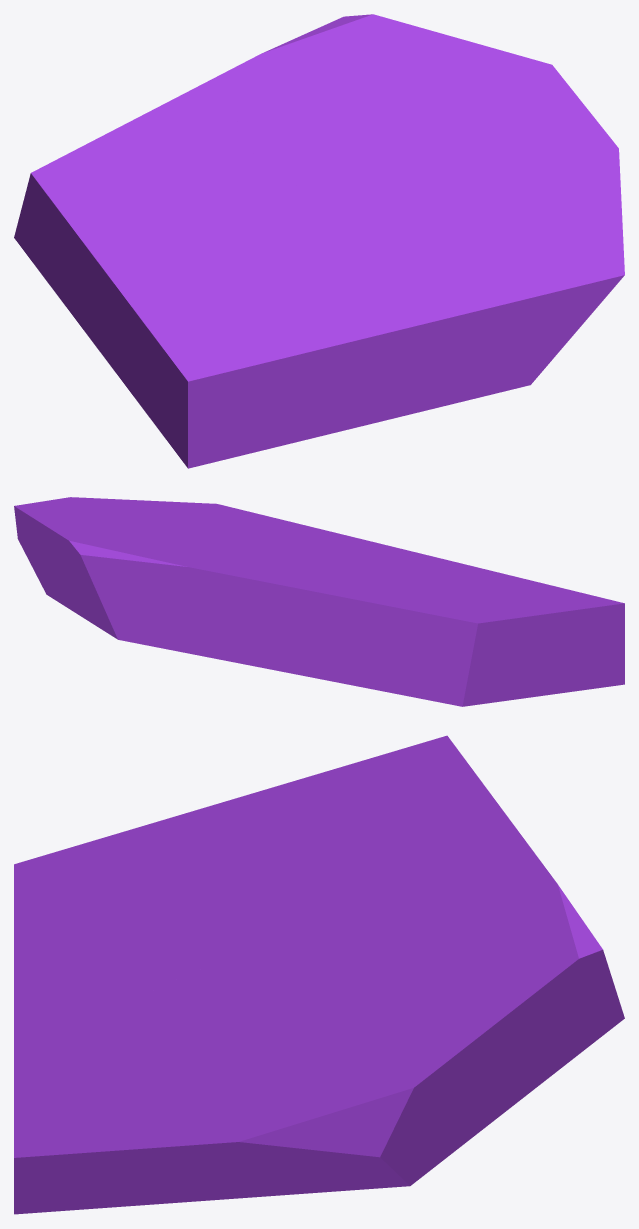
The model's file is Window_163_3_chunks.fbx.
The picture shows the model from 3 angles, top to bottom: view 1: azimuth 30°, elevation 25°; view 2: azimuth 150°, elevation 25°; view 3: azimuth 270°, elevation 25°; orthographic projection. The views are drawn at different scales.
Visible parts, largest first — view 1: Window_163_3_0, Window_163_3_2, Window_163_3_1, Window_163_3_3; view 2: Window_163_3_0, Window_163_3_1, Window_163_3_2, Window_163_3_3; view 3: Window_163_3_2, Window_163_3_0, Window_163_3_1, Window_163_3_3.
Boxes of the visible parts, left/top/right/bottom form: Window_163_3_0: left=14, top=106, right=438, bottom=468; Window_163_3_2: left=406, top=61, right=624, bottom=407; Window_163_3_1: left=161, top=14, right=540, bottom=136; Window_163_3_3: left=208, top=119, right=407, bottom=268; Window_163_3_0: left=283, top=548, right=624, bottom=706; Window_163_3_1: left=17, top=508, right=314, bottom=671; Window_163_3_2: left=14, top=497, right=399, bottom=600; Window_163_3_3: left=193, top=541, right=350, bottom=582; Window_163_3_2: left=14, top=994, right=440, bottom=1214; Window_163_3_0: left=14, top=735, right=509, bottom=1025; Window_163_3_1: left=349, top=819, right=624, bottom=1161; Window_163_3_3: left=118, top=853, right=466, bottom=1005.
Bounding box in the file's own units: 624 × 241 × 463.
